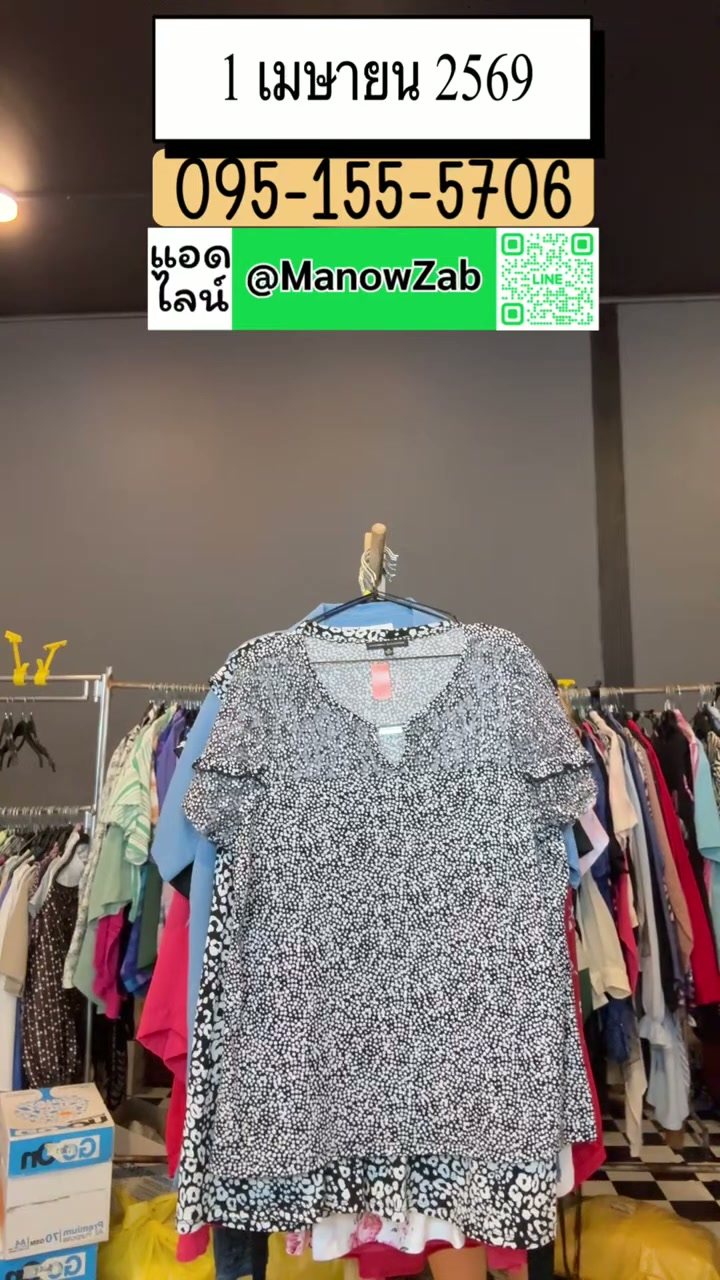display_shirt: (179, 601, 595, 1248)
